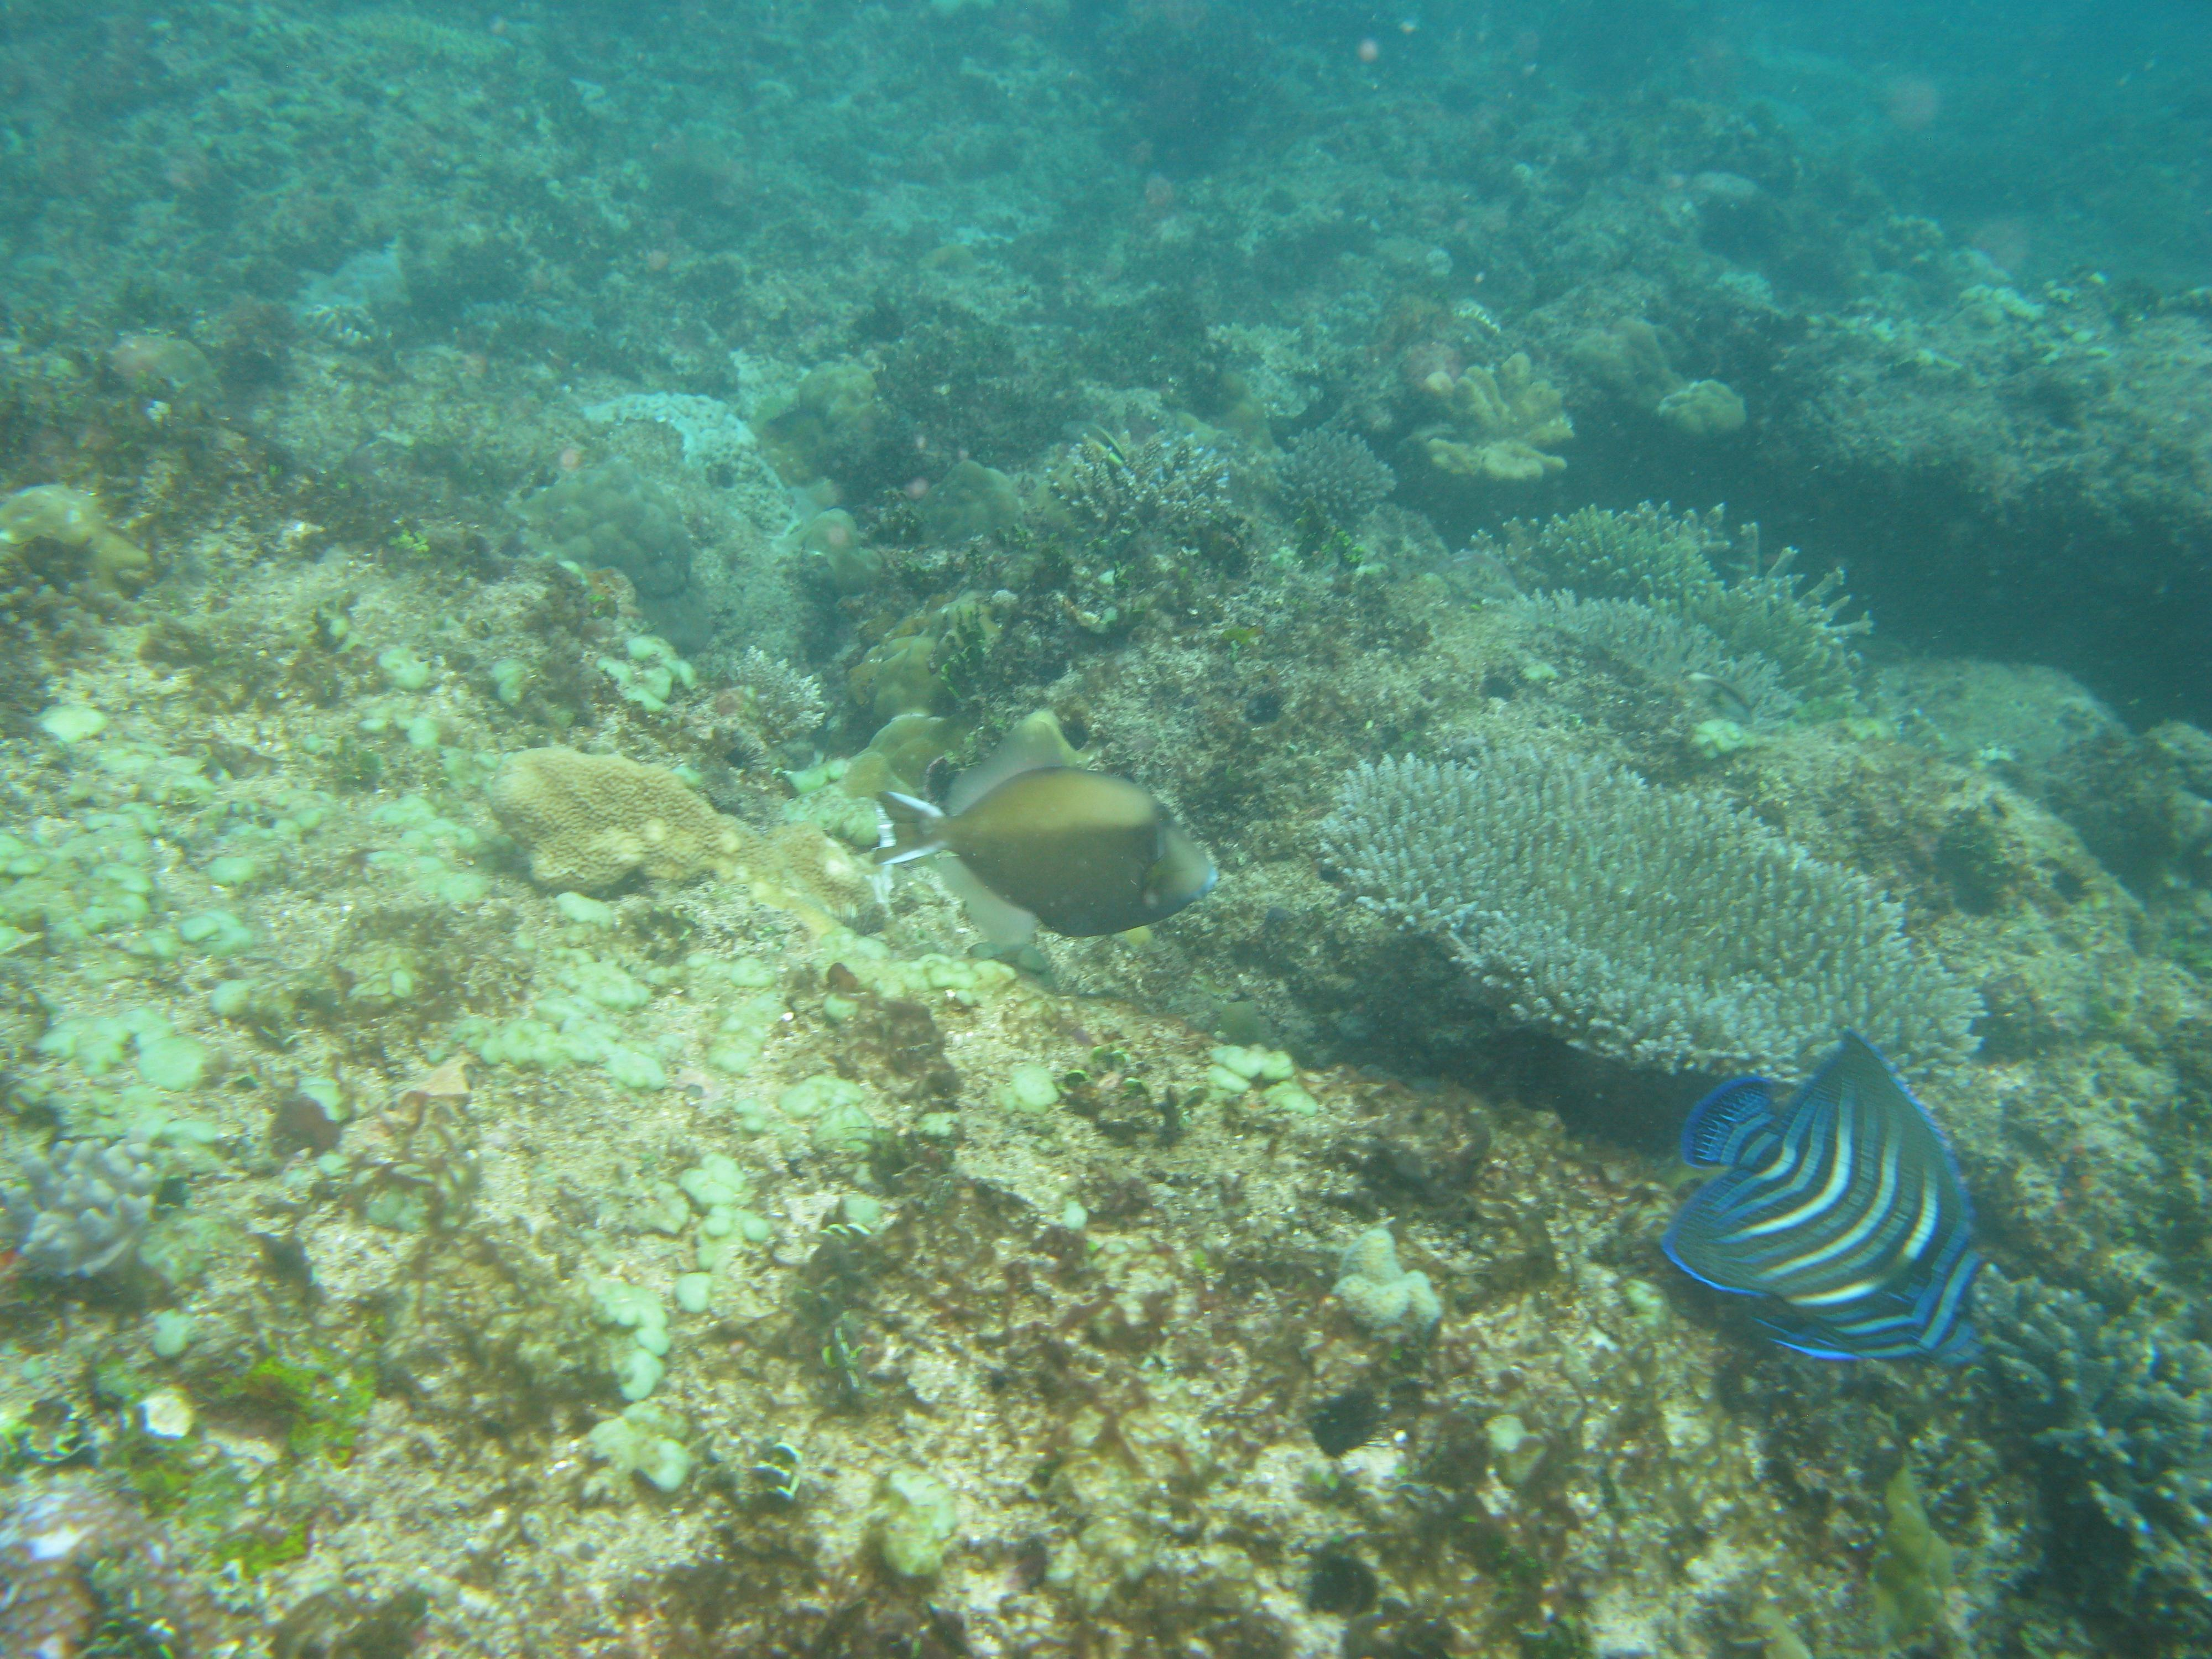Fish: (725, 659, 1399, 1019)
